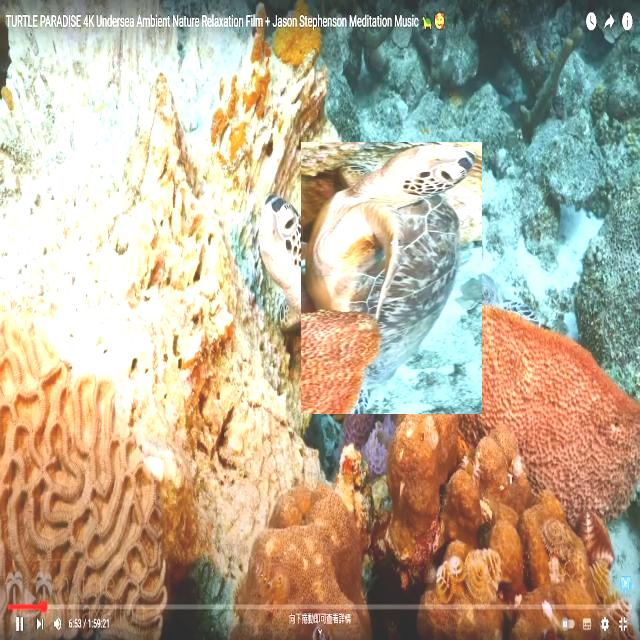Sea turtle: (278, 165, 505, 391)
